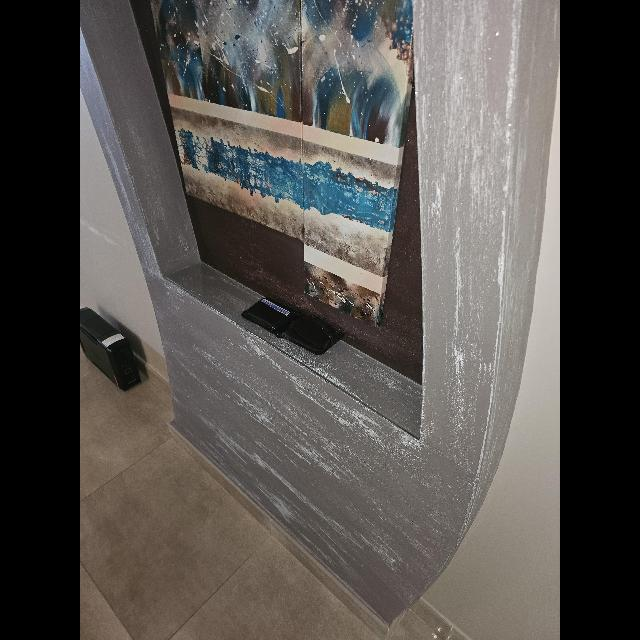Wallet: (240, 296, 344, 354)
